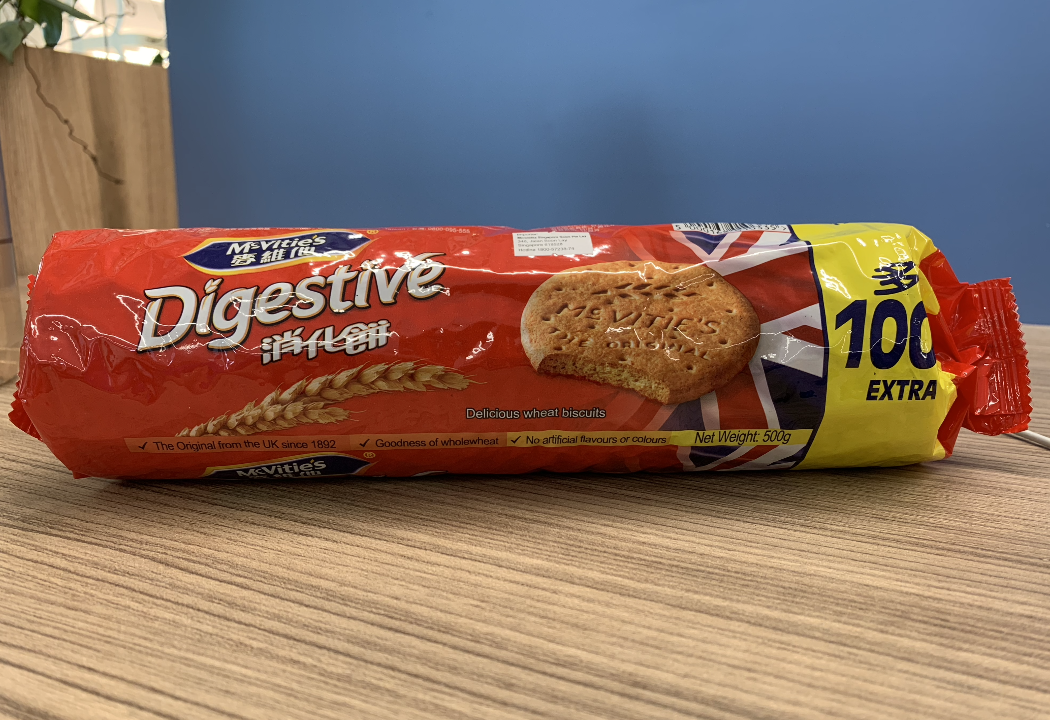cookies_500g-599g: (53, 232, 949, 458)
